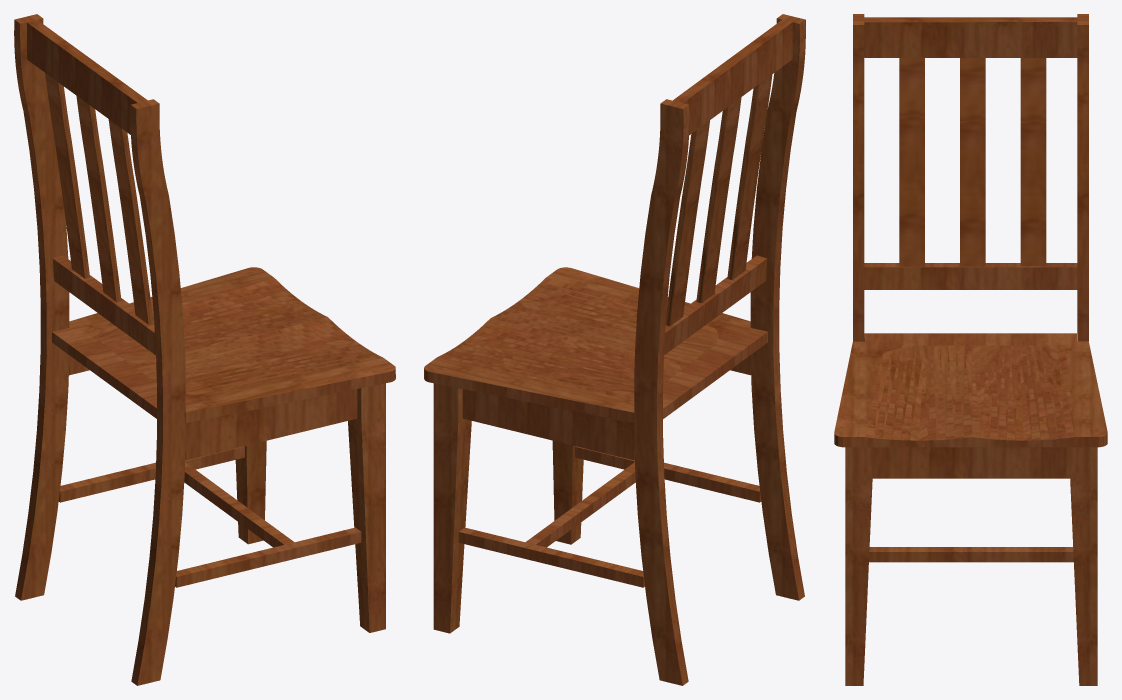
Rendered from chair38.dae.
The picture shows the model from 3 angles, left to right: view 1: azimuth 30°, elevation 25°; view 2: azimuth 150°, elevation 25°; view 3: azimuth 270°, elevation 25°; orthographic projection. The views are drawn at different scales.
Parts seen in each view (by area): view 1: group_15, group_2, group_1, group_11, group_9, group_3, group_6, group_5, group_7, group_16, group_4, group_14 (+2 smaller); view 2: group_15, group_1, group_2, group_13, group_8, group_3, group_6, group_5, group_7, group_14, group_4, group_16 (+2 smaller); view 3: group_15, group_3, group_12, group_13, group_11, group_7, group_4, group_5, group_6, group_1, group_2, group_17.
Part boxes in pixels (bbox=[...]): group_15: bbox=[52, 267, 395, 423]; group_2: bbox=[130, 99, 185, 685]; group_1: bbox=[14, 14, 69, 600]; group_11: bbox=[348, 383, 385, 632]; group_9: bbox=[185, 389, 357, 460]; group_3: bbox=[27, 20, 147, 134]; group_6: bbox=[76, 96, 121, 301]; group_5: bbox=[108, 119, 153, 324]; group_7: bbox=[45, 73, 89, 278]; group_16: bbox=[175, 527, 361, 587]; group_4: bbox=[52, 255, 155, 355]; group_14: bbox=[58, 446, 244, 502]; group_15: bbox=[424, 267, 767, 423]; group_1: bbox=[634, 99, 689, 685]; group_2: bbox=[750, 14, 805, 600]; group_13: bbox=[433, 383, 471, 633]; group_8: bbox=[462, 389, 634, 460]; group_3: bbox=[673, 19, 792, 135]; group_6: bbox=[696, 97, 741, 303]; group_5: bbox=[727, 74, 772, 279]; group_7: bbox=[665, 120, 709, 326]; group_14: bbox=[458, 527, 644, 587]; group_4: bbox=[664, 255, 767, 355]; group_16: bbox=[575, 446, 761, 502]; group_15: bbox=[834, 333, 1107, 447]; group_3: bbox=[864, 17, 1077, 57]; group_12: bbox=[872, 447, 1070, 478]; group_13: bbox=[1070, 447, 1097, 685]; group_11: bbox=[845, 447, 872, 685]; group_7: bbox=[1020, 58, 1046, 266]; group_4: bbox=[864, 263, 1077, 289]; group_5: bbox=[899, 58, 924, 266]; group_6: bbox=[960, 58, 985, 266]; group_1: bbox=[1077, 14, 1088, 341]; group_2: bbox=[853, 14, 864, 341]; group_17: bbox=[869, 547, 1073, 562].
Bounding box in the file's own units: 18.28 × 17.72 × 39.76.
